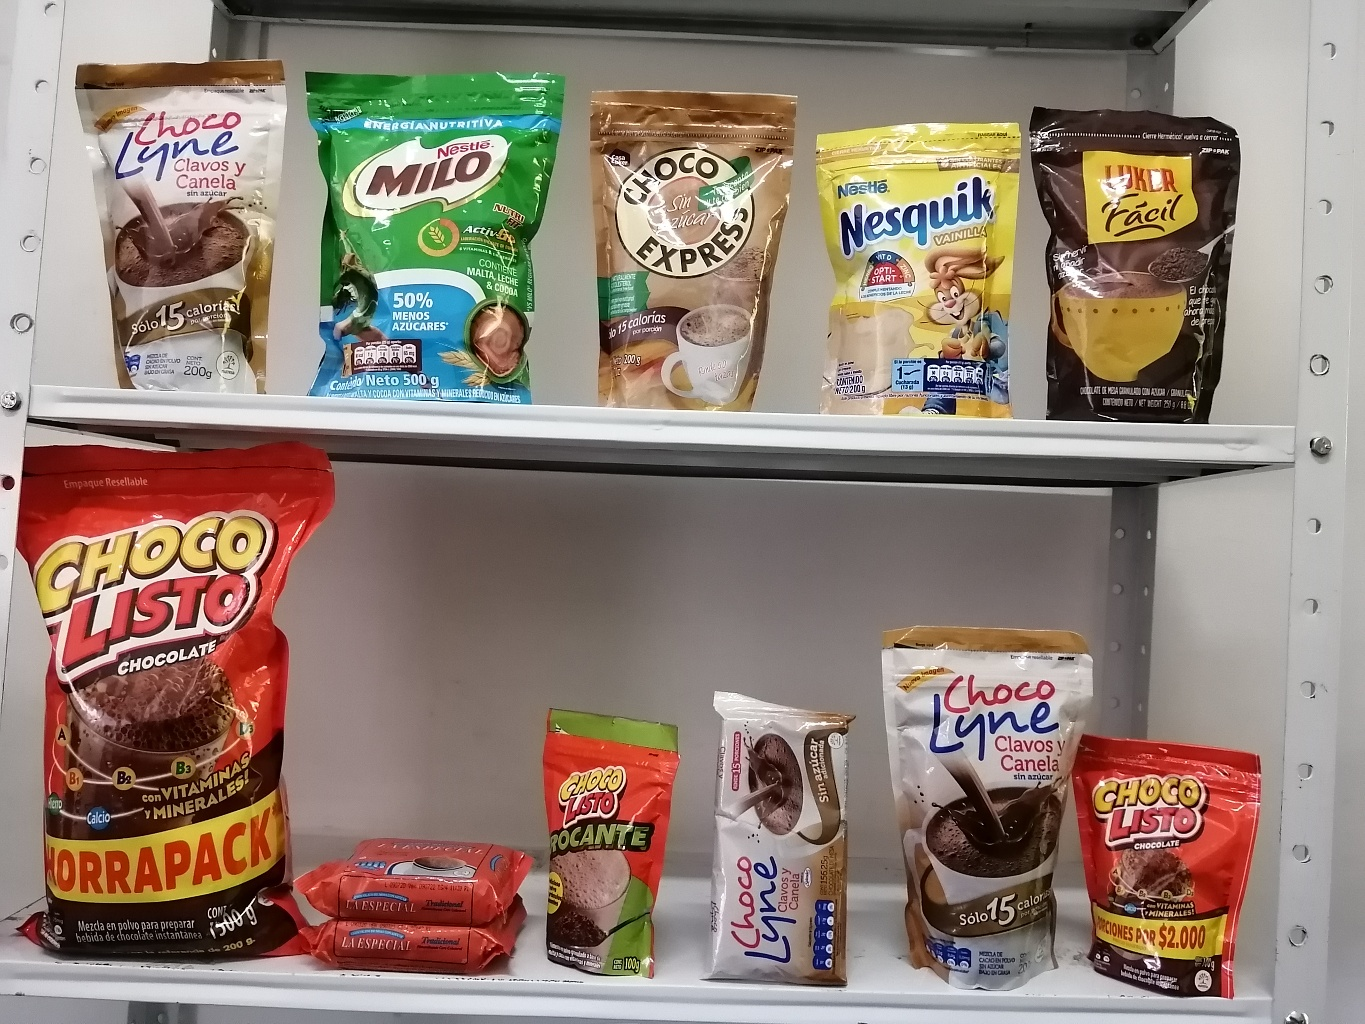COL0170102DYP10000: (542, 697, 694, 987)
COL0170103DYP1,500: (6, 424, 328, 976)
COL0170103DYP10000: (1078, 721, 1256, 999)
COL0170205DYP50000: (304, 63, 572, 401)
COL0170306DYP20000: (812, 110, 1033, 421)
